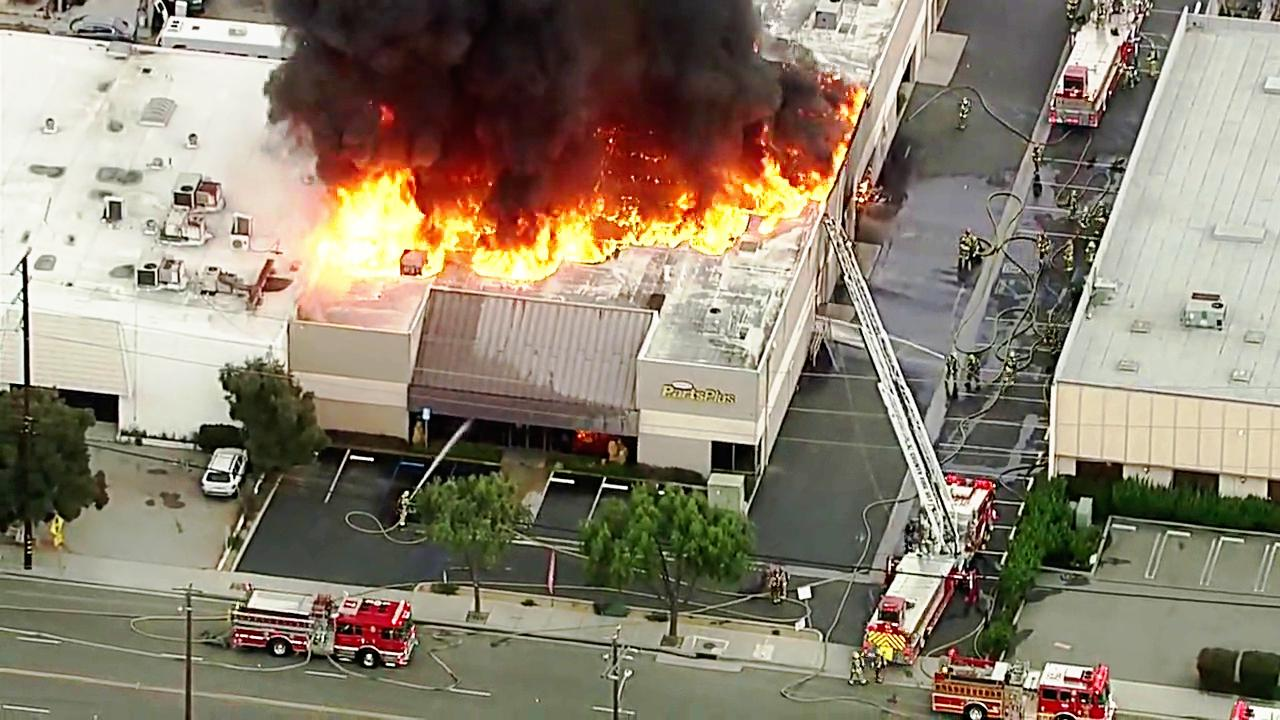fire: (312, 172, 422, 290), (474, 202, 604, 291), (631, 184, 764, 254)
smoke: (314, 0, 768, 148)
